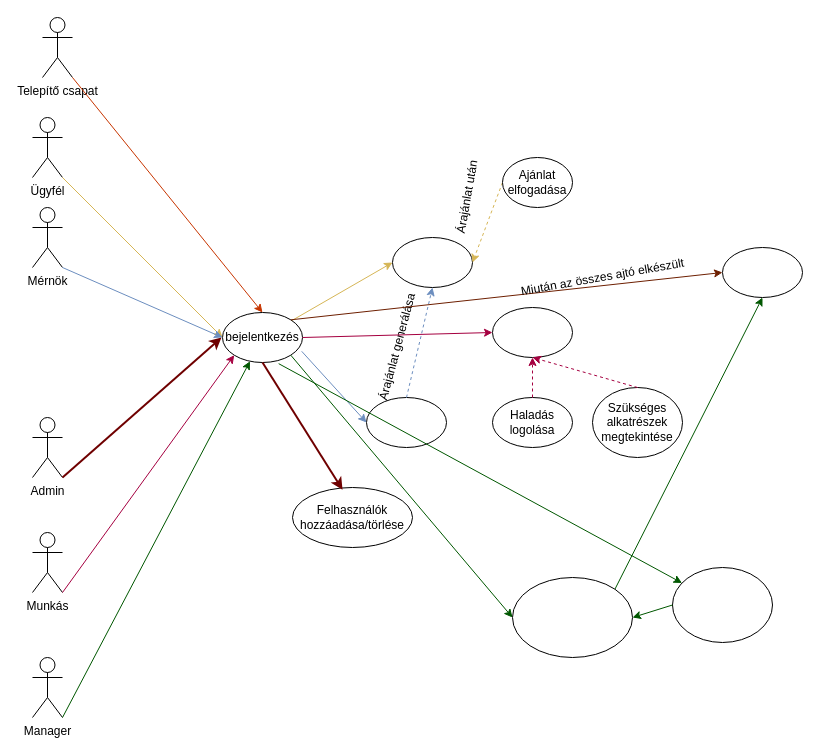
This 820x756 diagram has some shape labels left out. The shapes that lost their labels are listed below. From the top down, each one's centre as x and y in pixels, then its label:
point 432,262: Igény benyújtása
point 762,272: Telepítés
point 532,332: Ajtó(k) legyártása
point 406,422: Terv feltöltése
point 572,617: Telepítési dátum meghatározása
point 722,604: Kapcsolattartás a megrendelővel
